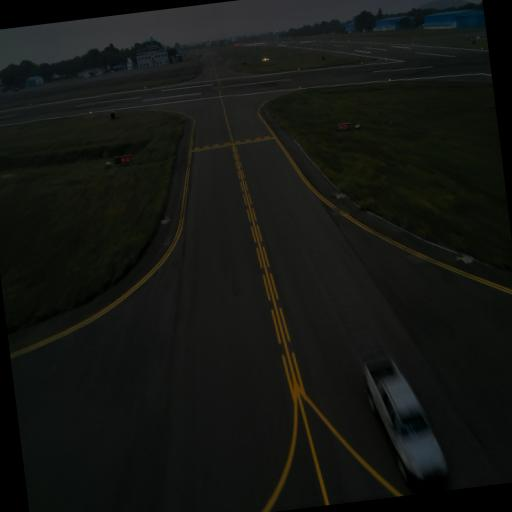on: (164, 213, 169, 220), (335, 190, 339, 196)
